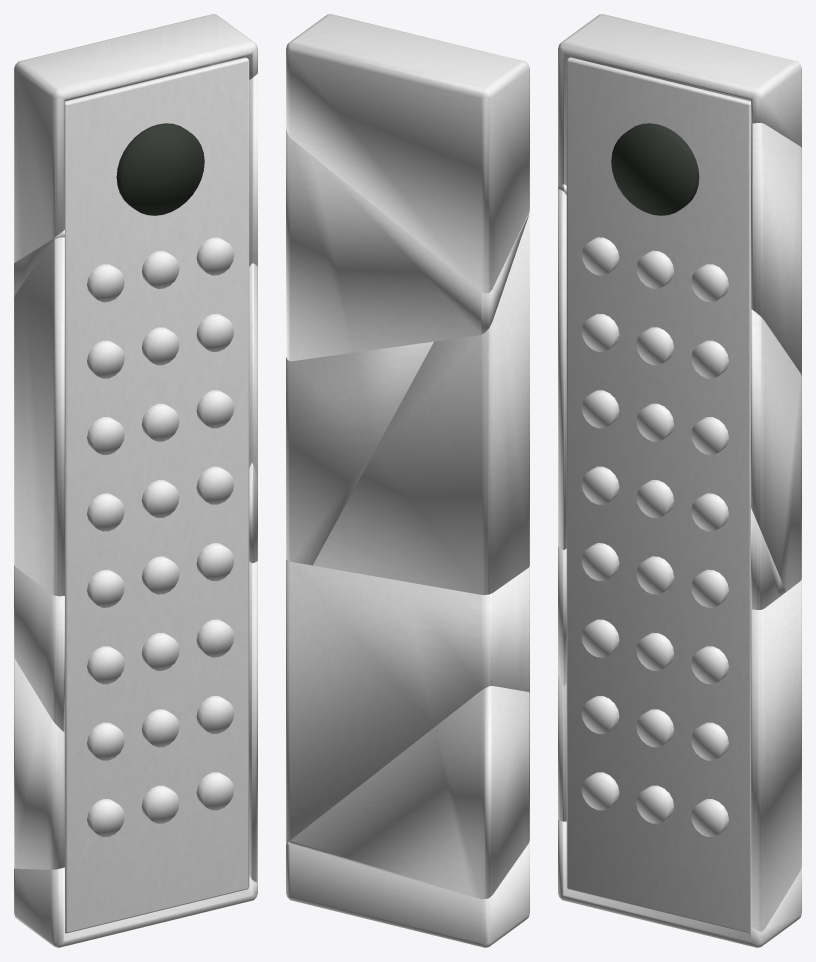
The model's file is fragments.glb.
3 renders of one model, left to right at view 1: azimuth 30°, elevation 25°; view 2: azimuth 150°, elevation 25°; view 3: azimuth 330°, elevation 25°, orthographic.
Visible parts, largest first — view 1: fragment-008-black, fragment-001-black, fragment-003-black, fragment-006-black, fragment-000-black, fragment-034-keys, fragment-007-black, fragment-002-black, fragment-005-black, fragment-013-rubber, fragment-011-rubber, fragment-026-rubber (+22 smaller); view 2: fragment-001-black, fragment-000-black, fragment-003-black, fragment-006-black, fragment-002-black, fragment-005-black, fragment-007-black; view 3: fragment-008-black, fragment-000-black, fragment-001-black, fragment-005-black, fragment-002-black, fragment-034-keys, fragment-007-black, fragment-003-black, fragment-004-black, fragment-006-black, fragment-015-rubber, fragment-010-rubber (+22 smaller).
Boxes of the visible parts, x1,y1,x2,y2 form: fragment-008-black: [65, 57, 249, 933]; fragment-001-black: [14, 14, 257, 262]; fragment-003-black: [14, 237, 64, 596]; fragment-006-black: [14, 657, 64, 869]; fragment-000-black: [14, 561, 257, 882]; fragment-034-keys: [116, 123, 204, 215]; fragment-007-black: [14, 867, 257, 947]; fragment-002-black: [14, 73, 257, 297]; fragment-005-black: [249, 263, 257, 480]; fragment-013-rubber: [87, 722, 124, 760]; fragment-011-rubber: [141, 785, 179, 823]; fragment-026-rubber: [141, 403, 179, 441]; fragment-001-black: [286, 14, 529, 293]; fragment-000-black: [286, 559, 529, 844]; fragment-003-black: [313, 210, 529, 594]; fragment-006-black: [288, 686, 529, 899]; fragment-002-black: [286, 129, 529, 361]; fragment-005-black: [286, 341, 433, 565]; fragment-007-black: [286, 840, 529, 947]; fragment-008-black: [566, 57, 750, 933]; fragment-000-black: [558, 546, 801, 931]; fragment-001-black: [558, 14, 801, 187]; fragment-005-black: [751, 309, 801, 591]; fragment-002-black: [558, 123, 801, 375]; fragment-034-keys: [611, 123, 699, 215]; fragment-007-black: [558, 820, 801, 947]; fragment-003-black: [558, 189, 566, 549]; fragment-004-black: [751, 508, 785, 609]; fragment-006-black: [558, 674, 566, 821]; fragment-015-rubber: [691, 722, 728, 760]; fragment-010-rubber: [581, 772, 619, 810].
Size of the model in its own units: 0.045 by 0.18 by 0.019.
Materials: 4 (4 with a texture image).
